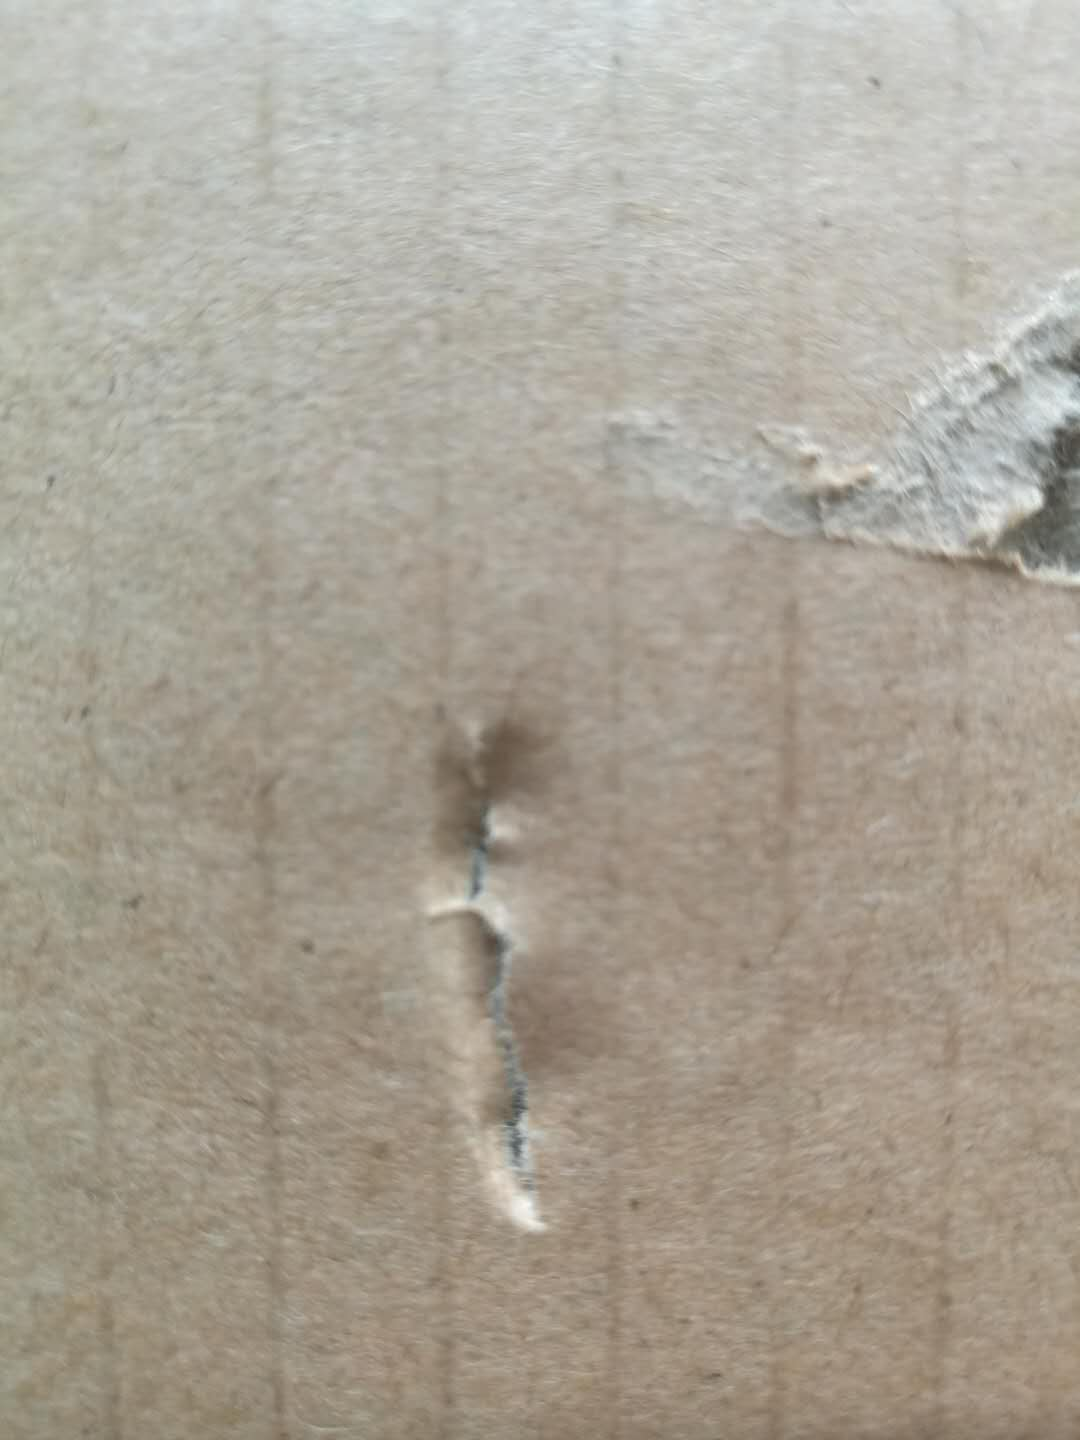defect: (551, 244, 1080, 649), (369, 670, 649, 1282)
